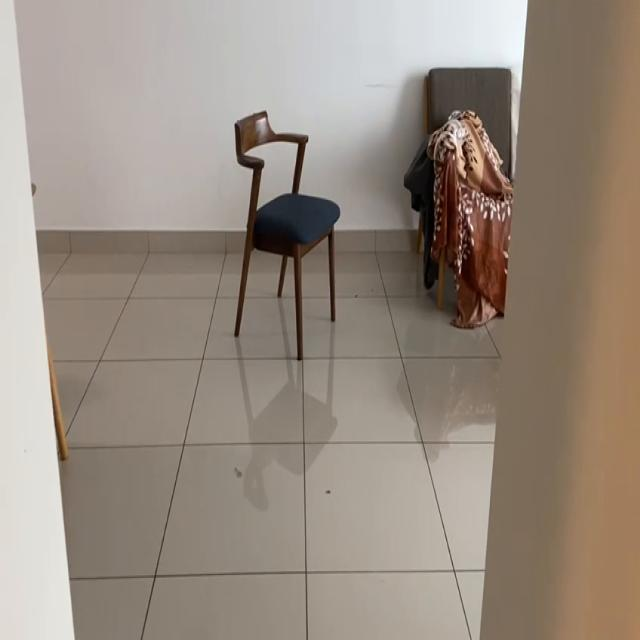Chair: (215, 70, 341, 358)
